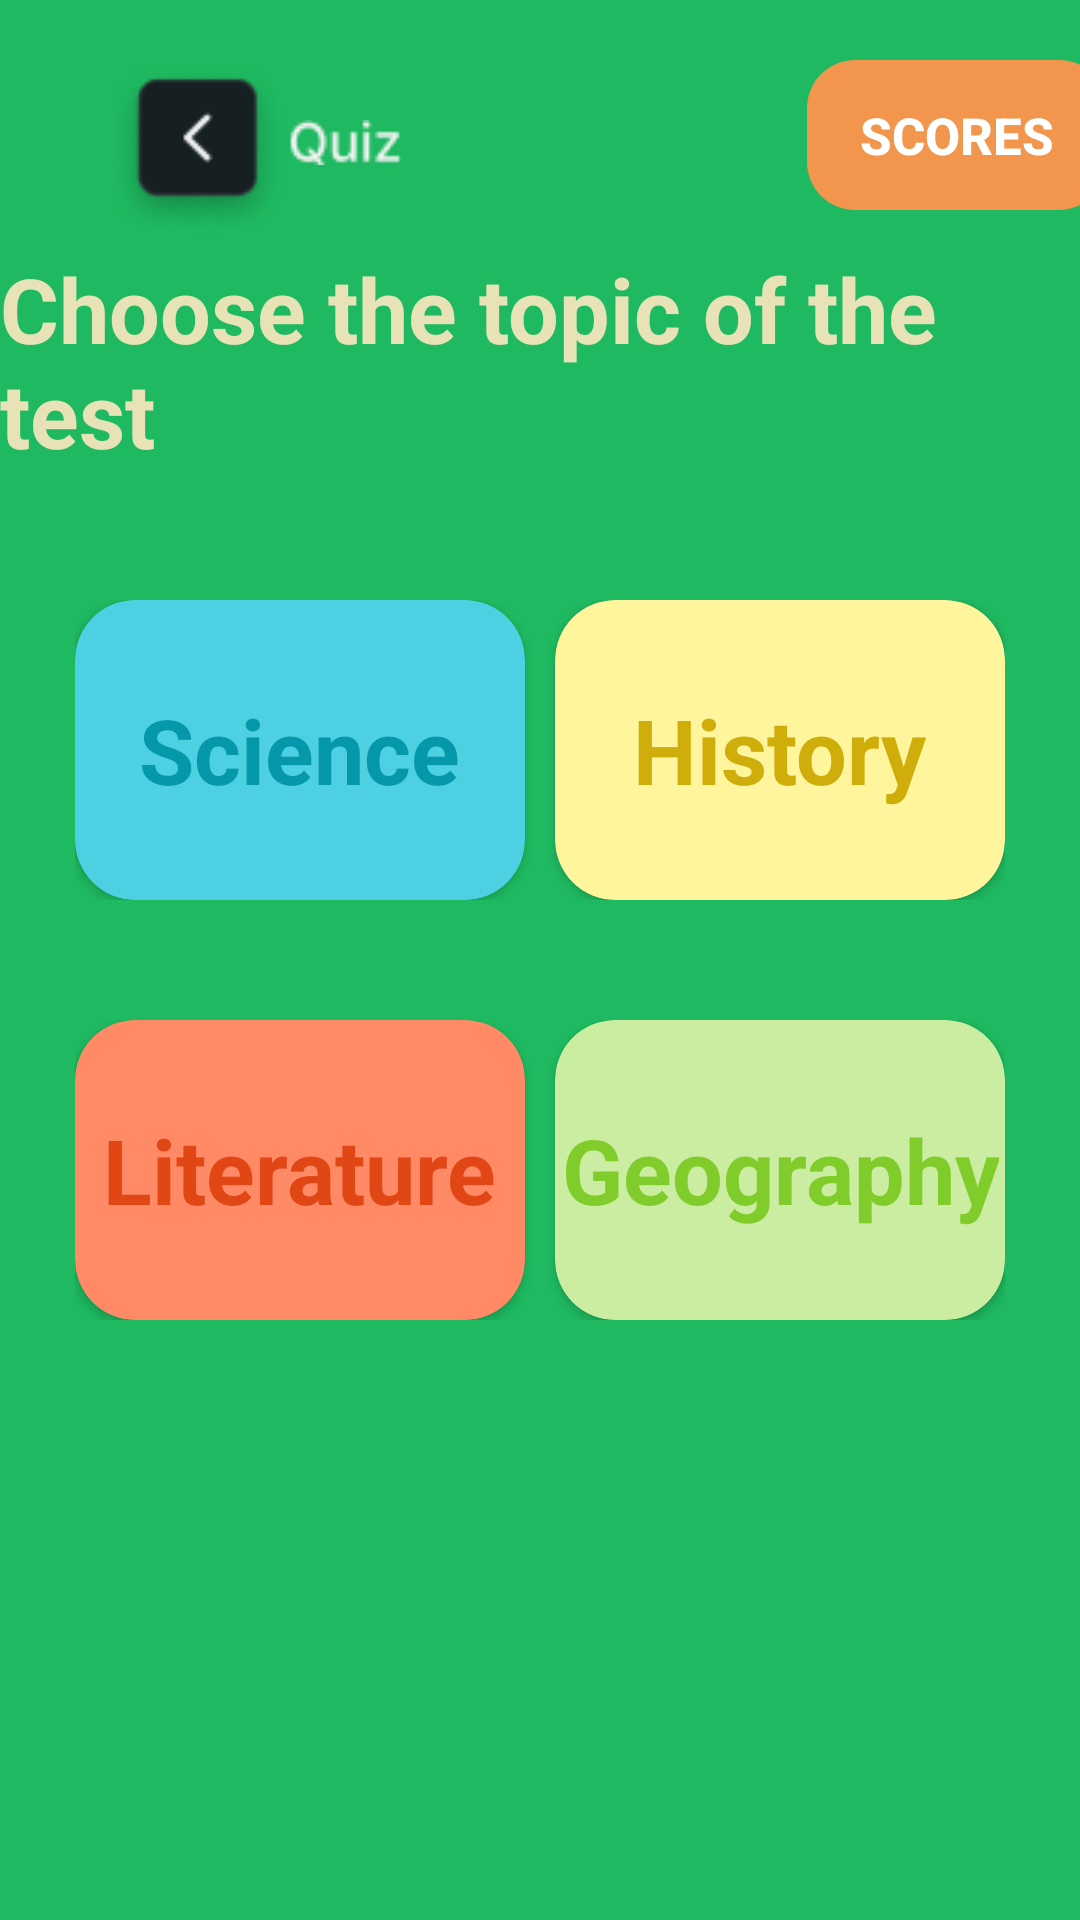

Locate icon controls on the screen. Image size 1080 × 1920, boxes as bbox(x1, y1, x2, y2).
back: bbox(135, 78, 258, 207)
